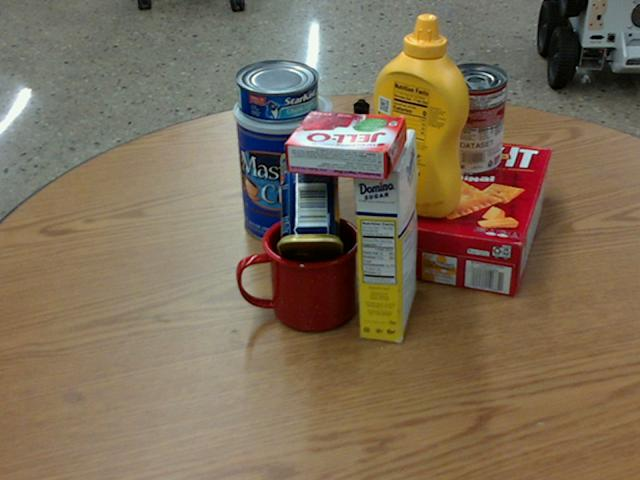cracker_box: (359, 131, 550, 295)
gelatin_box: (283, 110, 407, 180)
large_marker: (352, 100, 368, 200)
master_chef_can: (234, 86, 334, 243)
mug: (233, 214, 358, 332)
mustard_bottle: (368, 14, 469, 217)
potted_meat_can: (277, 150, 343, 267)
sugar_box: (351, 128, 415, 341)
tomato_soup_can: (440, 63, 506, 174)
tuna_fish_can: (235, 59, 318, 121)
